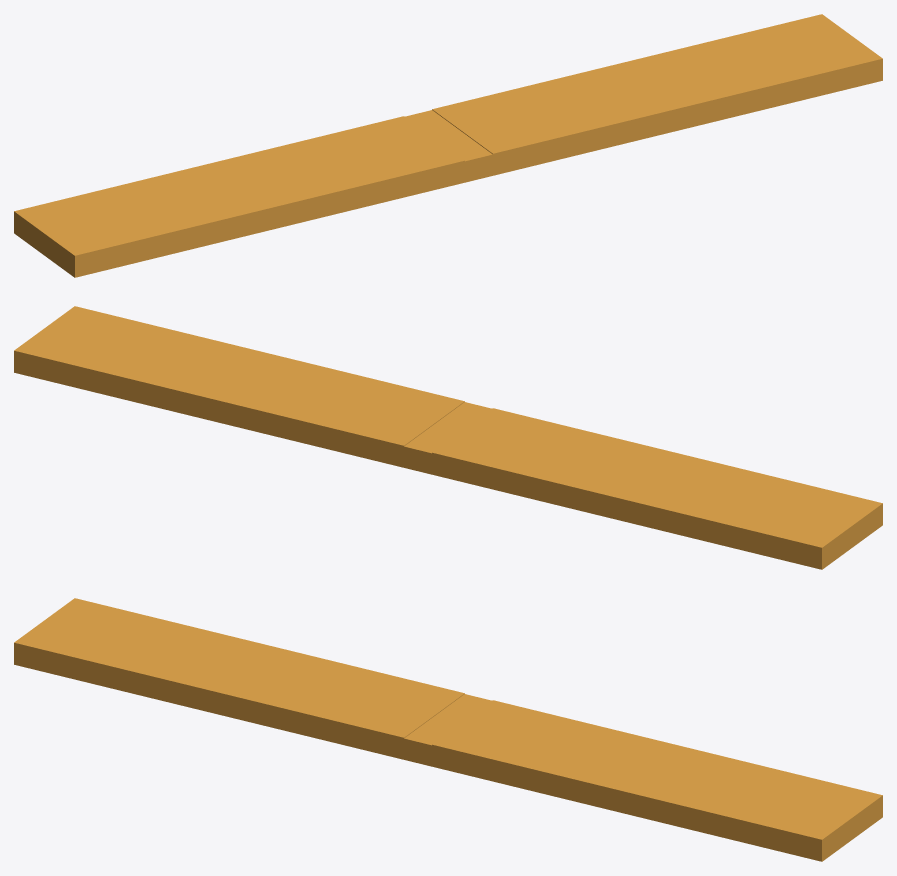
Rendered from tile-road-straight.fbx.
The picture shows the model from 3 angles, top to bottom: view 1: azimuth 30°, elevation 25°; view 2: azimuth 150°, elevation 25°; view 3: azimuth 330°, elevation 25°; orthographic projection.
Visible parts, largest first — view 1: tile-road-straight; view 2: tile-road-straight; view 3: tile-road-straight.
Boxes of the visible parts, x1,y1,x2,y2 form: tile-road-straight: (14,14,882,277); tile-road-straight: (14,306,882,569); tile-road-straight: (14,598,882,861).
Bounding box in the file's own units: 23000 × 600 × 3000.
